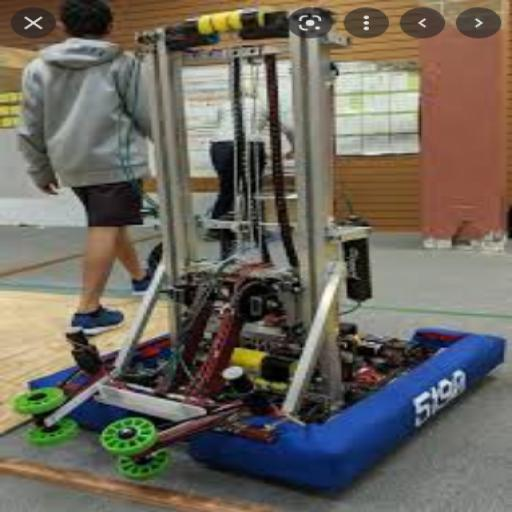robot: (24, 4, 505, 491)
